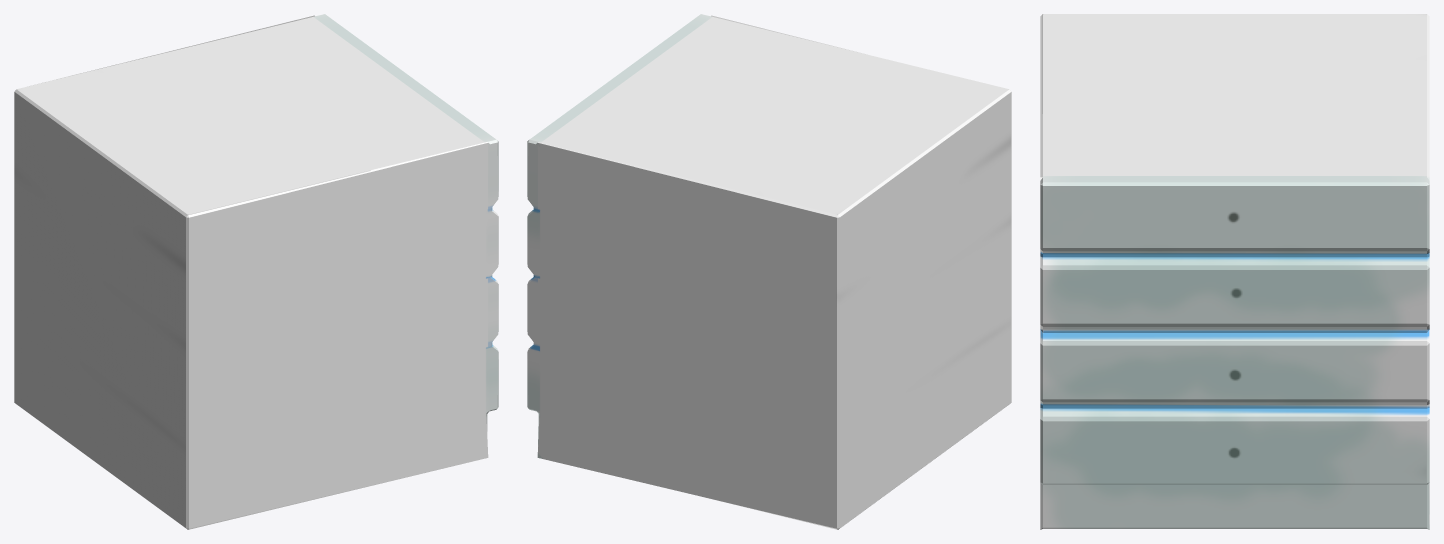
The model's file is KitchenBoxes.fbx.
3 views of the same model, side by side, from view 1: azimuth 30°, elevation 25°; view 2: azimuth 150°, elevation 25°; view 3: azimuth 270°, elevation 25° (orthographic). The views are drawn at different scales.
Parts seen in each view (by area): view 1: Cube; view 2: Cube; view 3: Cube.
Part boxes in pixels (x1=…): Cube: x1=14, y1=14, x2=498, y2=529; Cube: x1=527, y1=14, x2=1011, y2=529; Cube: x1=1040, y1=14, x2=1429, y2=529.
Size of the model in its own units: 208 by 200 by 200.
